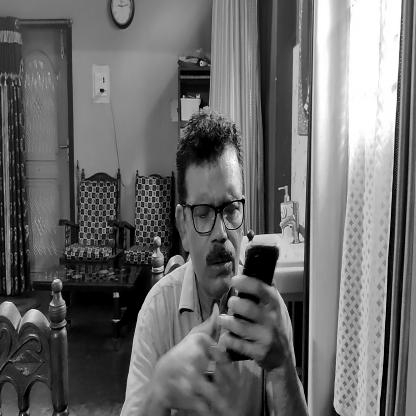Distracted: (174, 114, 245, 307)
